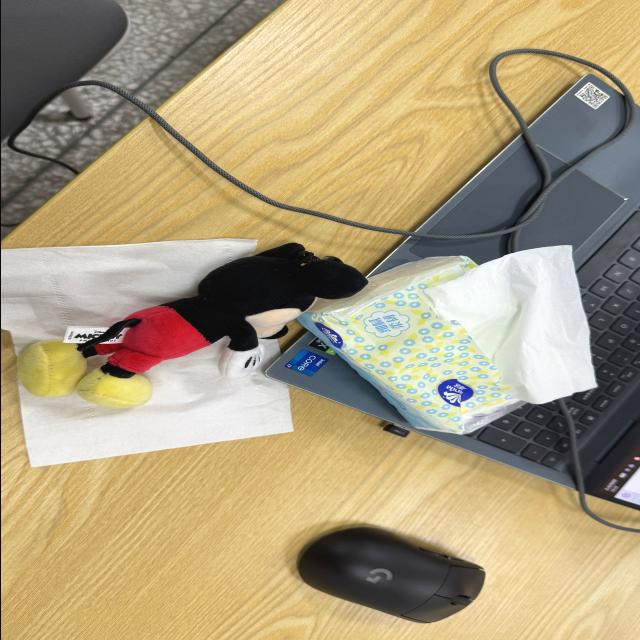mickey: (17, 244, 366, 407)
tissue: (298, 246, 593, 433), (298, 257, 521, 433), (428, 246, 594, 403)
